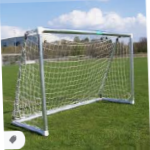goals: (9, 24, 138, 137)
